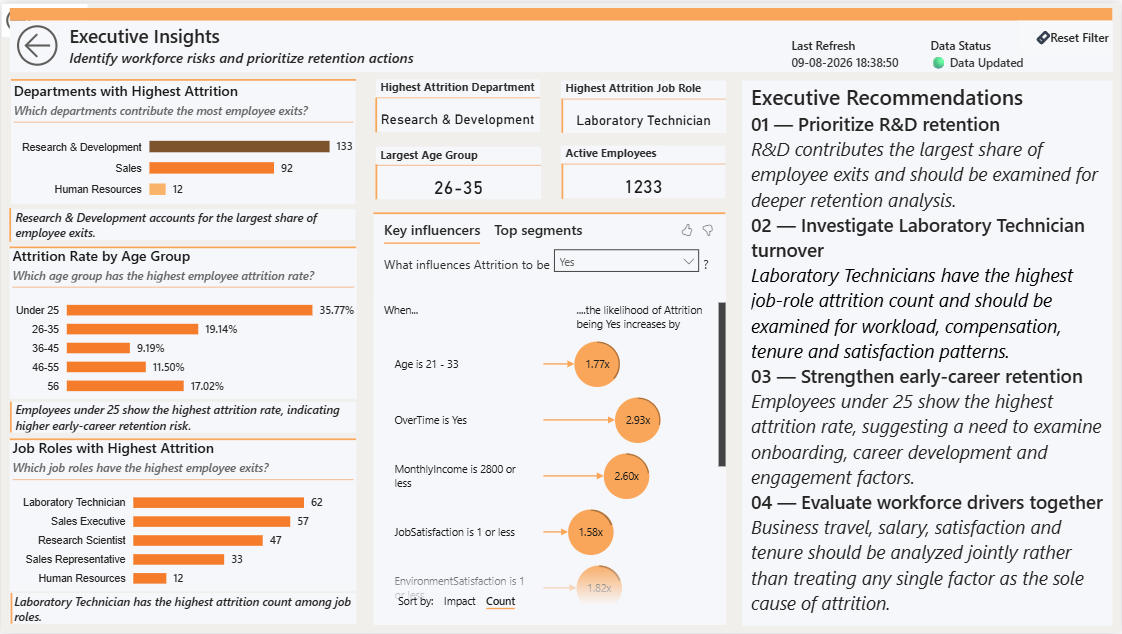

The page's visual inventory and layout, read from the dashboard file:
{"tool":"powerbi","page":{"name":"Executive Insights","canvas":[1280,720],"ordinal":5},"visuals":[{"type":"card","title":"Highest Attrition Department","fields":{"Values":["Measures (2).Highest Attrition Department"]},"box":[428.6,87.1,187.1,60],"z":0},{"type":"card","title":"Highest Attrition Job Role","fields":{"Values":["Measures (2).Highest Attrition Job Role"]},"box":[640,88.3,188.9,60],"z":1000},{"type":"card","title":"Largest Age Group","fields":{"Values":["Measures (2).Largest Workforce Age Group"]},"box":[428,163.6,188.9,60],"z":2000},{"type":"card","title":"Active Employees","fields":{"Values":["Measures (2).Active Employees"]},"box":[640,163.3,188,60.4],"z":3000},{"type":"clusteredBarChart","title":"Departments with Highest Attrition","fields":{"Category":["Employees.Department"],"Y":["Measures (2).Attrition Count"]},"box":[11.7,88.3,393.9,141.1],"z":4000},{"type":"clusteredBarChart","title":"Job Roles with Highest Attrition","fields":{"Category":["Employees.JobRole"],"Y":["Measures (2).Attrition Count"]},"box":[10,497.3,395.7,175],"z":5000},{"type":"textbox","box":[847.1,88.6,422.9,622.9],"z":6000},{"type":"actionButton","box":[0,0,100,40],"z":7000},{"type":"shape","box":[9.6,20.6,1261.1,59],"z":8000},{"type":"shape","box":[10,5.7,1260,14.3],"z":9000},{"type":"textbox","box":[72.9,17.1,790,61.4],"z":10000},{"type":"actionButton","title":"Reset Filter","box":[1162.9,20,107.1,38.6],"z":11000},{"type":"clusteredBarChart","title":"Attrition Rate by Age Group","fields":{"Y":["Measures (2).Attrition Rate"],"Category":["Employees.Age Group"]},"box":[9.6,277.2,396.6,175],"z":12000},{"type":"textbox","box":[11.7,236.1,393.9,35],"z":13000},{"type":"shape","box":[4.2,234.2,12.5,38.3],"z":14000},{"type":"textbox","box":[10.6,675,395.7,35],"z":15000},{"type":"shape","box":[5.8,675,12.5,35],"z":16000},{"type":"textbox","box":[11.7,455.6,394.4,35],"z":17000},{"type":"shape","box":[2.5,455.8,14.2,35],"z":18000},{"type":"cardVisual","title":"Last Refresh","fields":{"Data":["Min(Last Refreshed.LastRefresh)","Measures (2).Data Status"]},"box":[884.3,18.6,350,78.3],"z":19000},{"type":"shape","box":[10,492.9,395.7,11.4],"z":20000},{"type":"shape","box":[10,272.8,396.1,12.8],"z":21000},{"type":"shape","box":[11.4,81.4,394.3,12.9],"z":22000},{"type":"shape","box":[633.8,183.8,14.6,39.6],"z":23000},{"type":"shape","box":[423.1,184.6,12.3,40],"z":24000},{"type":"shape","box":[635.4,110,11.5,38.5],"z":25000},{"type":"shape","box":[423.5,108.5,11.9,39.2],"z":26000},{"type":"actionButton","box":[11.4,18.6,61.4,60],"z":27000},{"type":"keyDriversVisual","fields":{"Target":["Employees.Attrition"],"ExplainBy":["Employees.JobSatisfaction","Employees.EnvironmentSatisfaction","Employees.BusinessTravel","Employees.MonthlyIncome","Employees.YearsAtCompany","Employees.WorkLifeBalance","Employees.Age","Employees.OverTime"]},"box":[426,240,402,470],"z":28000},{"type":"shape","box":[426,234,402,12],"z":29000}]}

Visuals, with their boxes in screenshot pixels (x1, y1, x2, y2), scaled from the page's 1280x720 canvas onto the 1122x634 screenshot:
"Highest Attrition Department" card: [x1=376, y1=77, x2=540, y2=130]
"Highest Attrition Job Role" card: [x1=561, y1=78, x2=727, y2=131]
"Largest Age Group" card: [x1=375, y1=144, x2=541, y2=197]
"Active Employees" card: [x1=561, y1=144, x2=726, y2=197]
"Departments with Highest Attrition" clusteredBarChart: [x1=10, y1=78, x2=356, y2=202]
"Job Roles with Highest Attrition" clusteredBarChart: [x1=9, y1=438, x2=356, y2=592]
textbox: [x1=743, y1=78, x2=1113, y2=627]
actionButton: [x1=0, y1=0, x2=88, y2=35]
shape: [x1=8, y1=18, x2=1114, y2=70]
shape: [x1=9, y1=5, x2=1113, y2=18]
textbox: [x1=64, y1=15, x2=756, y2=69]
"Reset Filter" actionButton: [x1=1019, y1=18, x2=1113, y2=52]
"Attrition Rate by Age Group" clusteredBarChart: [x1=8, y1=244, x2=356, y2=398]
textbox: [x1=10, y1=208, x2=356, y2=239]
shape: [x1=4, y1=206, x2=15, y2=240]
textbox: [x1=9, y1=594, x2=356, y2=625]
shape: [x1=5, y1=594, x2=16, y2=625]
textbox: [x1=10, y1=401, x2=356, y2=432]
shape: [x1=2, y1=401, x2=15, y2=432]
"Last Refresh" cardVisual: [x1=775, y1=16, x2=1082, y2=85]
shape: [x1=9, y1=434, x2=356, y2=444]
shape: [x1=9, y1=240, x2=356, y2=251]
shape: [x1=10, y1=72, x2=356, y2=83]
shape: [x1=556, y1=162, x2=568, y2=197]
shape: [x1=371, y1=163, x2=382, y2=198]
shape: [x1=557, y1=97, x2=567, y2=131]
shape: [x1=371, y1=96, x2=382, y2=130]
actionButton: [x1=10, y1=16, x2=64, y2=69]
keyDriversVisual - Employees.Attrition x Employees.JobSatisfaction: [x1=373, y1=211, x2=726, y2=625]
shape: [x1=373, y1=206, x2=726, y2=217]
